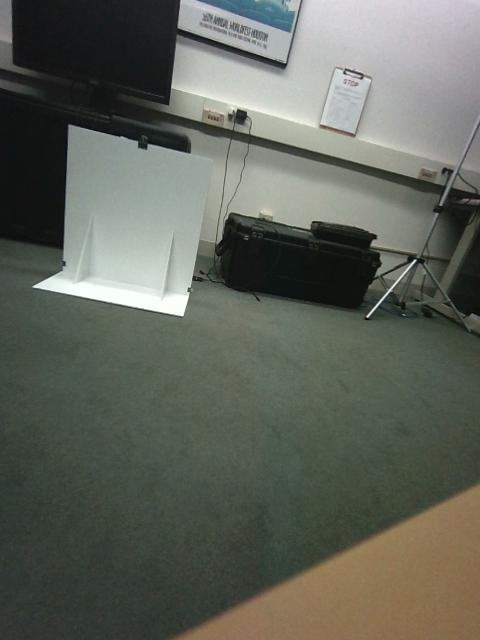block: (175, 277, 212, 307)
